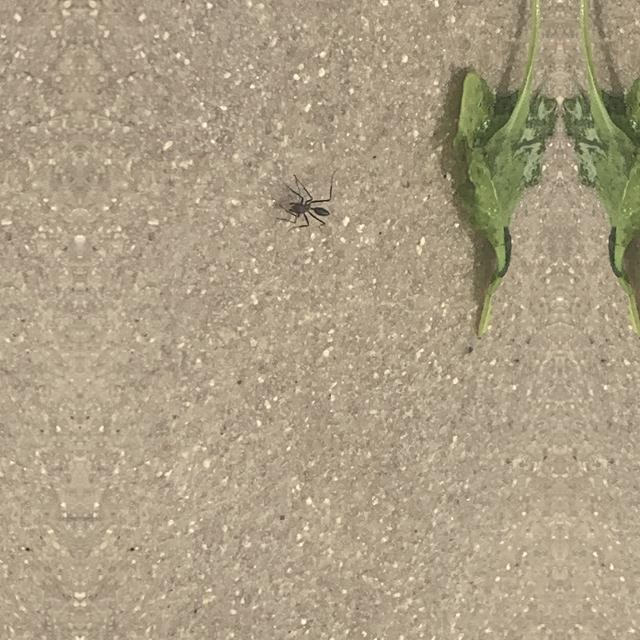Cataglyphis: (278, 180, 336, 234)
